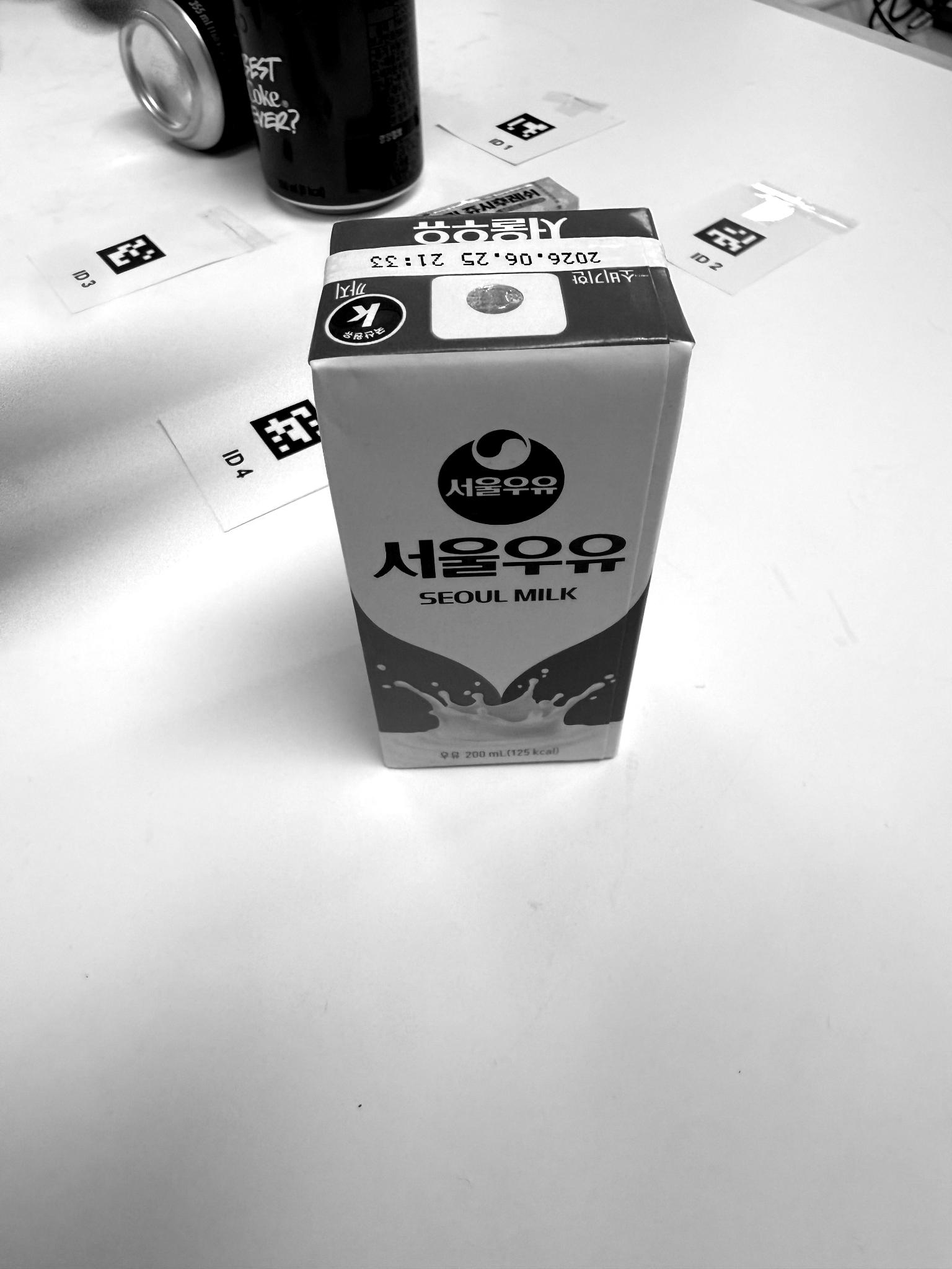milk_green: (310, 209, 693, 770)
